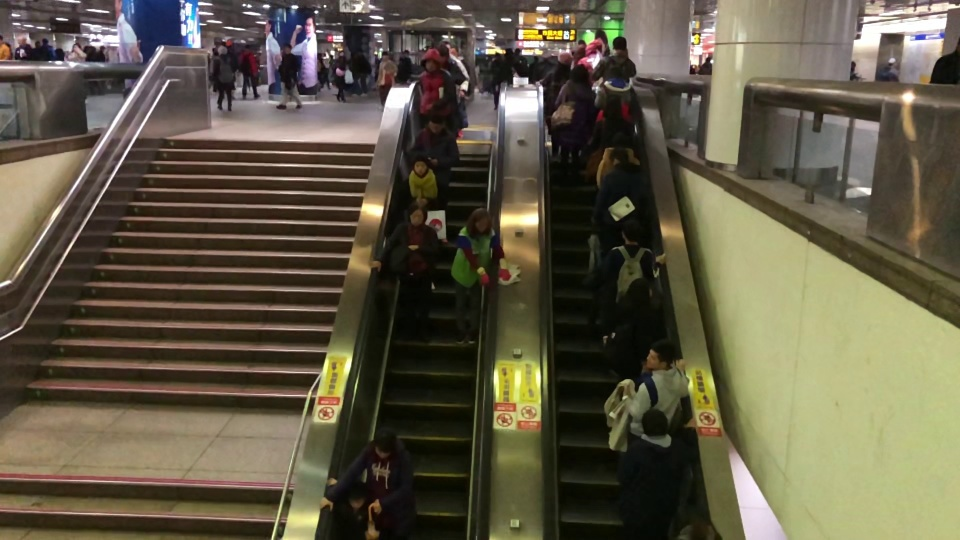person_head: (645, 338, 676, 370), (640, 408, 668, 436), (373, 426, 397, 458), (626, 277, 653, 304), (407, 198, 429, 226), (346, 480, 368, 508), (602, 94, 624, 120), (471, 207, 491, 234), (621, 220, 642, 243), (421, 48, 441, 71), (411, 152, 429, 175), (426, 110, 445, 131), (608, 147, 629, 164), (570, 64, 589, 82), (612, 132, 630, 150), (585, 37, 602, 54), (605, 64, 622, 79), (557, 51, 572, 67), (611, 36, 626, 51), (283, 43, 293, 54), (218, 45, 228, 55), (381, 49, 388, 61), (72, 42, 81, 51), (888, 56, 896, 65), (338, 53, 345, 61), (41, 38, 48, 45), (704, 56, 711, 63), (850, 61, 855, 70), (244, 44, 249, 51), (0, 34, 3, 41)
person_vbox: (318, 425, 416, 540), (615, 407, 697, 538), (369, 197, 439, 345), (449, 206, 511, 347), (408, 110, 461, 243), (621, 336, 689, 439), (603, 277, 666, 380), (398, 152, 444, 290), (601, 220, 666, 304), (554, 64, 594, 187), (591, 147, 644, 237), (540, 50, 572, 163), (415, 49, 454, 123), (325, 477, 368, 540), (596, 132, 640, 189), (591, 94, 635, 148), (592, 36, 637, 84), (274, 43, 304, 109), (594, 64, 631, 107), (212, 45, 235, 112), (929, 37, 960, 83), (67, 43, 90, 104), (375, 49, 398, 109), (238, 42, 261, 100), (333, 52, 349, 103), (877, 56, 901, 82), (40, 39, 56, 61), (698, 55, 713, 75), (849, 61, 864, 81), (0, 34, 11, 60)
